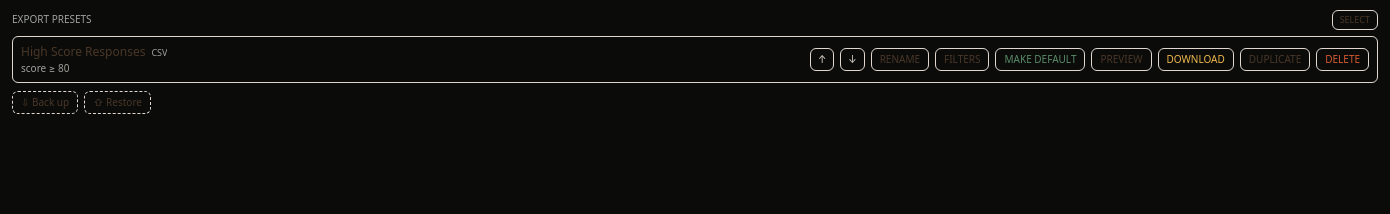
Scenario: ExportPresetsPanel › previews a preset lazily and shows the match count with samples
Click the button with aria-label "preview export preset high score responses" at {"x": 1122, "y": 59}, box [1092,48,1152,70]
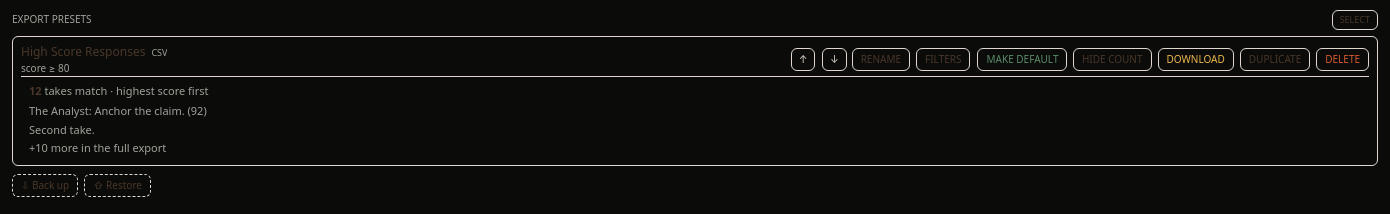
Now the button with aria-label "preview export preset high score responses" is expanded, box [1073,48,1152,70]
Now the button with aria-label "preview export preset high score responses" reads "Hide count", box [1073,48,1152,70]
Now the text "12" is shown, box [29,82,42,98]
